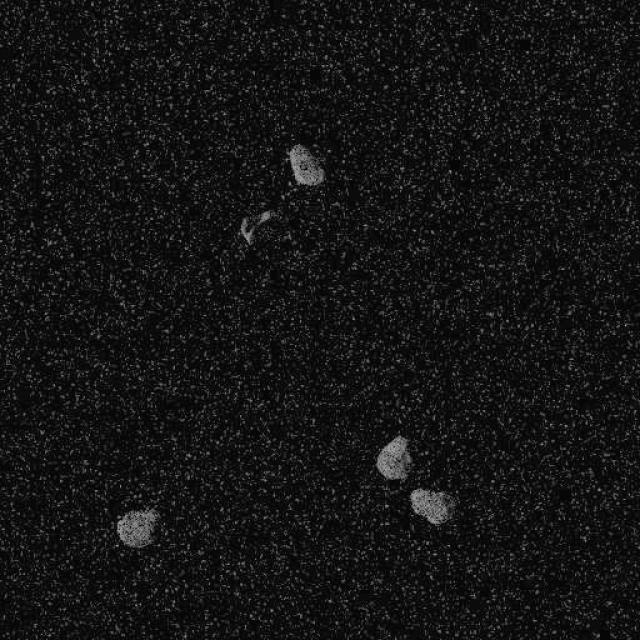D2: (115, 505, 160, 547), (407, 486, 455, 525), (373, 434, 412, 481), (287, 142, 325, 186), (238, 208, 274, 246)
